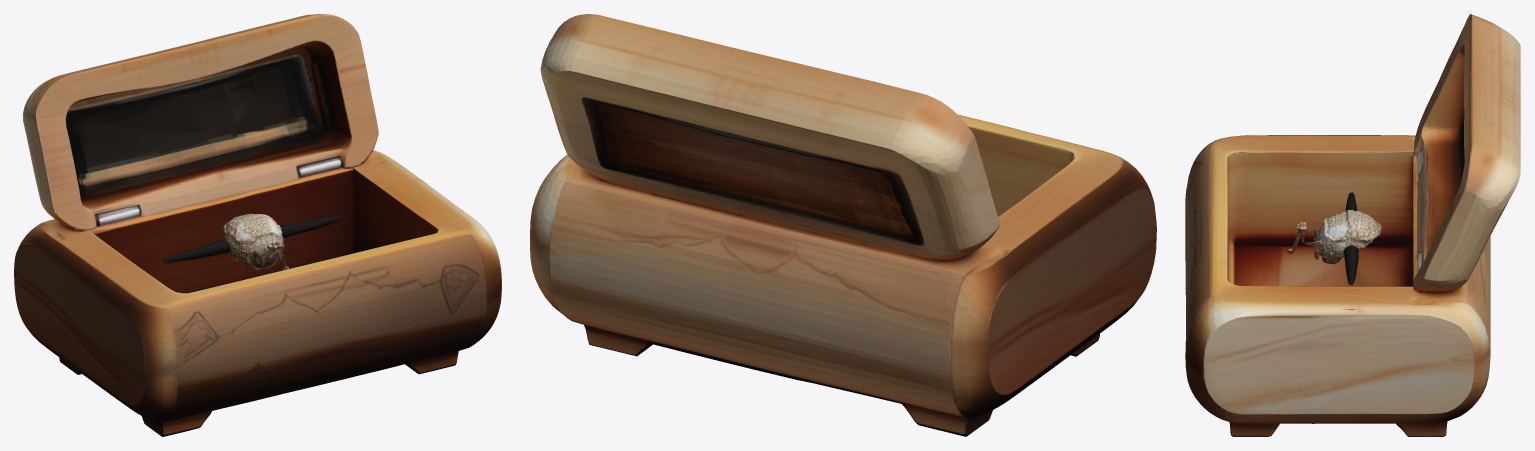
File: wooden-music-box-futuristic.jpeg.glb
The picture shows the model from 3 angles, left to right: view 1: azimuth 30°, elevation 25°; view 2: azimuth 150°, elevation 25°; view 3: azimuth 270°, elevation 25°; orthographic projection. The views are drawn at different scales.
Visible parts, largest first — view 1: world; view 2: world; view 3: world.
Part boxes in pixels (bbox=[...]): world: bbox=[14, 14, 501, 436]; world: bbox=[530, 14, 1156, 436]; world: bbox=[1185, 14, 1520, 436].
Bounding box in the file's own units: 0.9983 × 0.7224 × 0.7791.
Materials: 1 (1 with a texture image).
